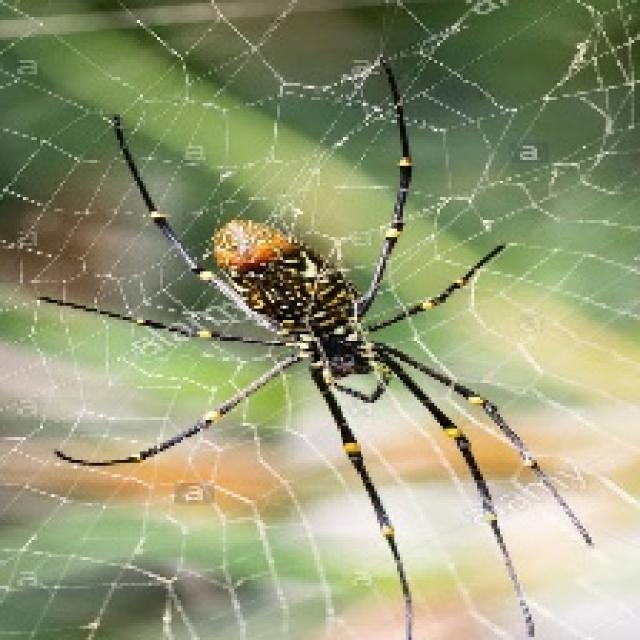Non venomous spider: (88, 45, 569, 598)
